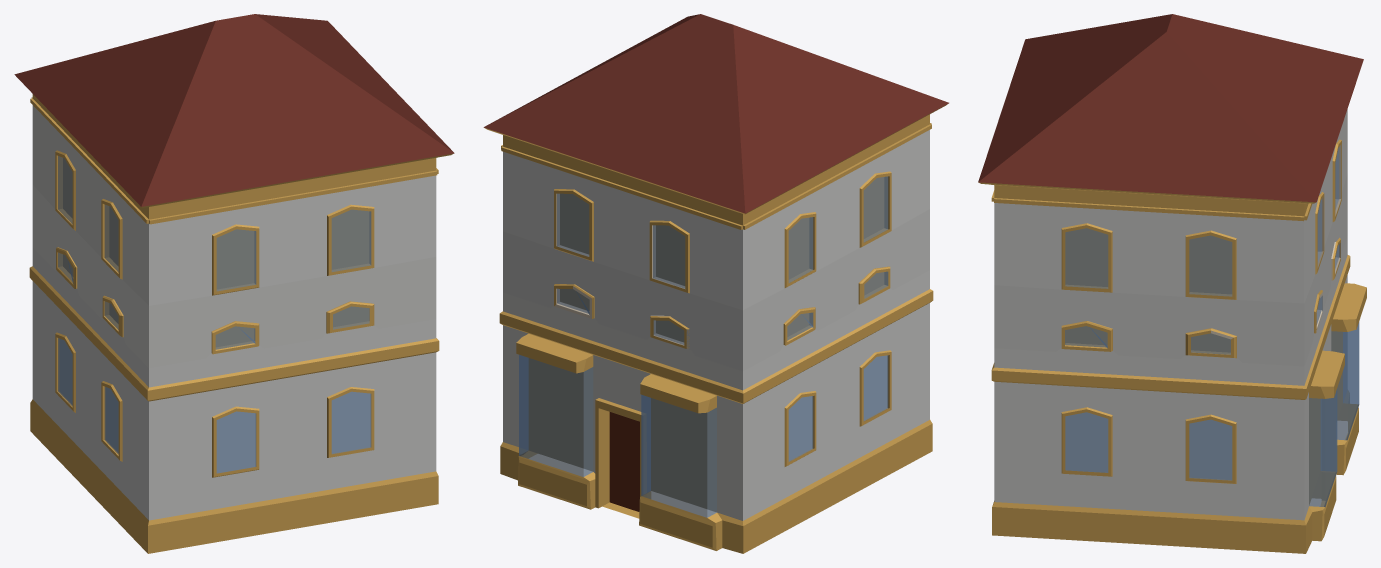
Rendered from CityApart2.fbx.
3 renders of one model, left to right at view 1: azimuth 30°, elevation 25°; view 2: azimuth 150°, elevation 25°; view 3: azimuth 270°, elevation 25°, orthographic. The views are drawn at different scales.
Parts seen in each view (by area): view 1: 2; view 2: 2; view 3: 2.
Part boxes in pixels (left/top/right/bottom): 2: left=14, top=14, right=454, bottom=553; 2: left=483, top=14, right=948, bottom=553; 2: left=978, top=14, right=1366, bottom=553.
Bounding box in the file's own units: 7.59 × 9.89 × 7.65.
